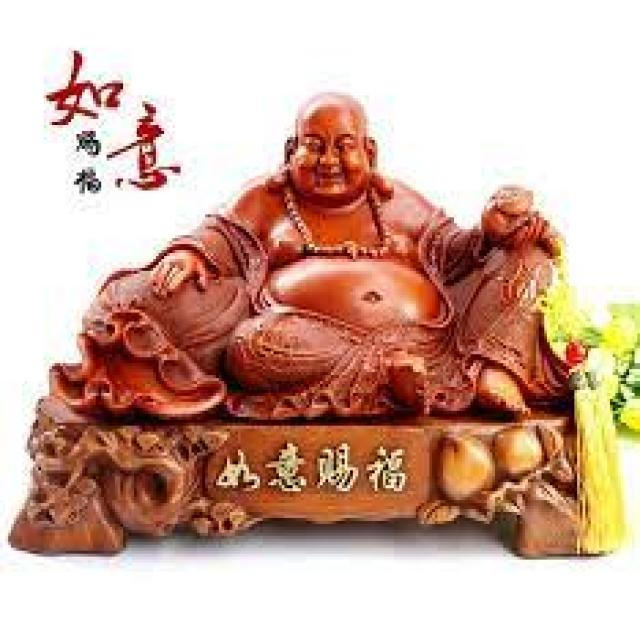Smiling Buddha: (194, 83, 448, 406)
